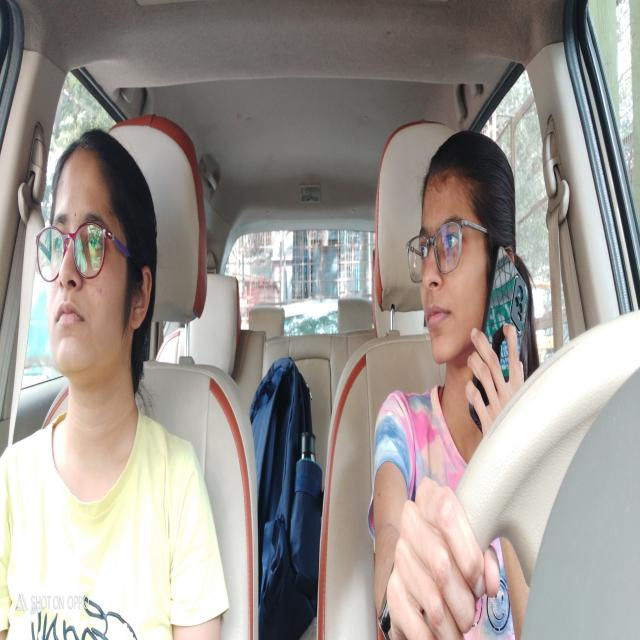mobile: (478, 238, 527, 422)
person: (36, 126, 156, 386), (409, 128, 518, 358)
